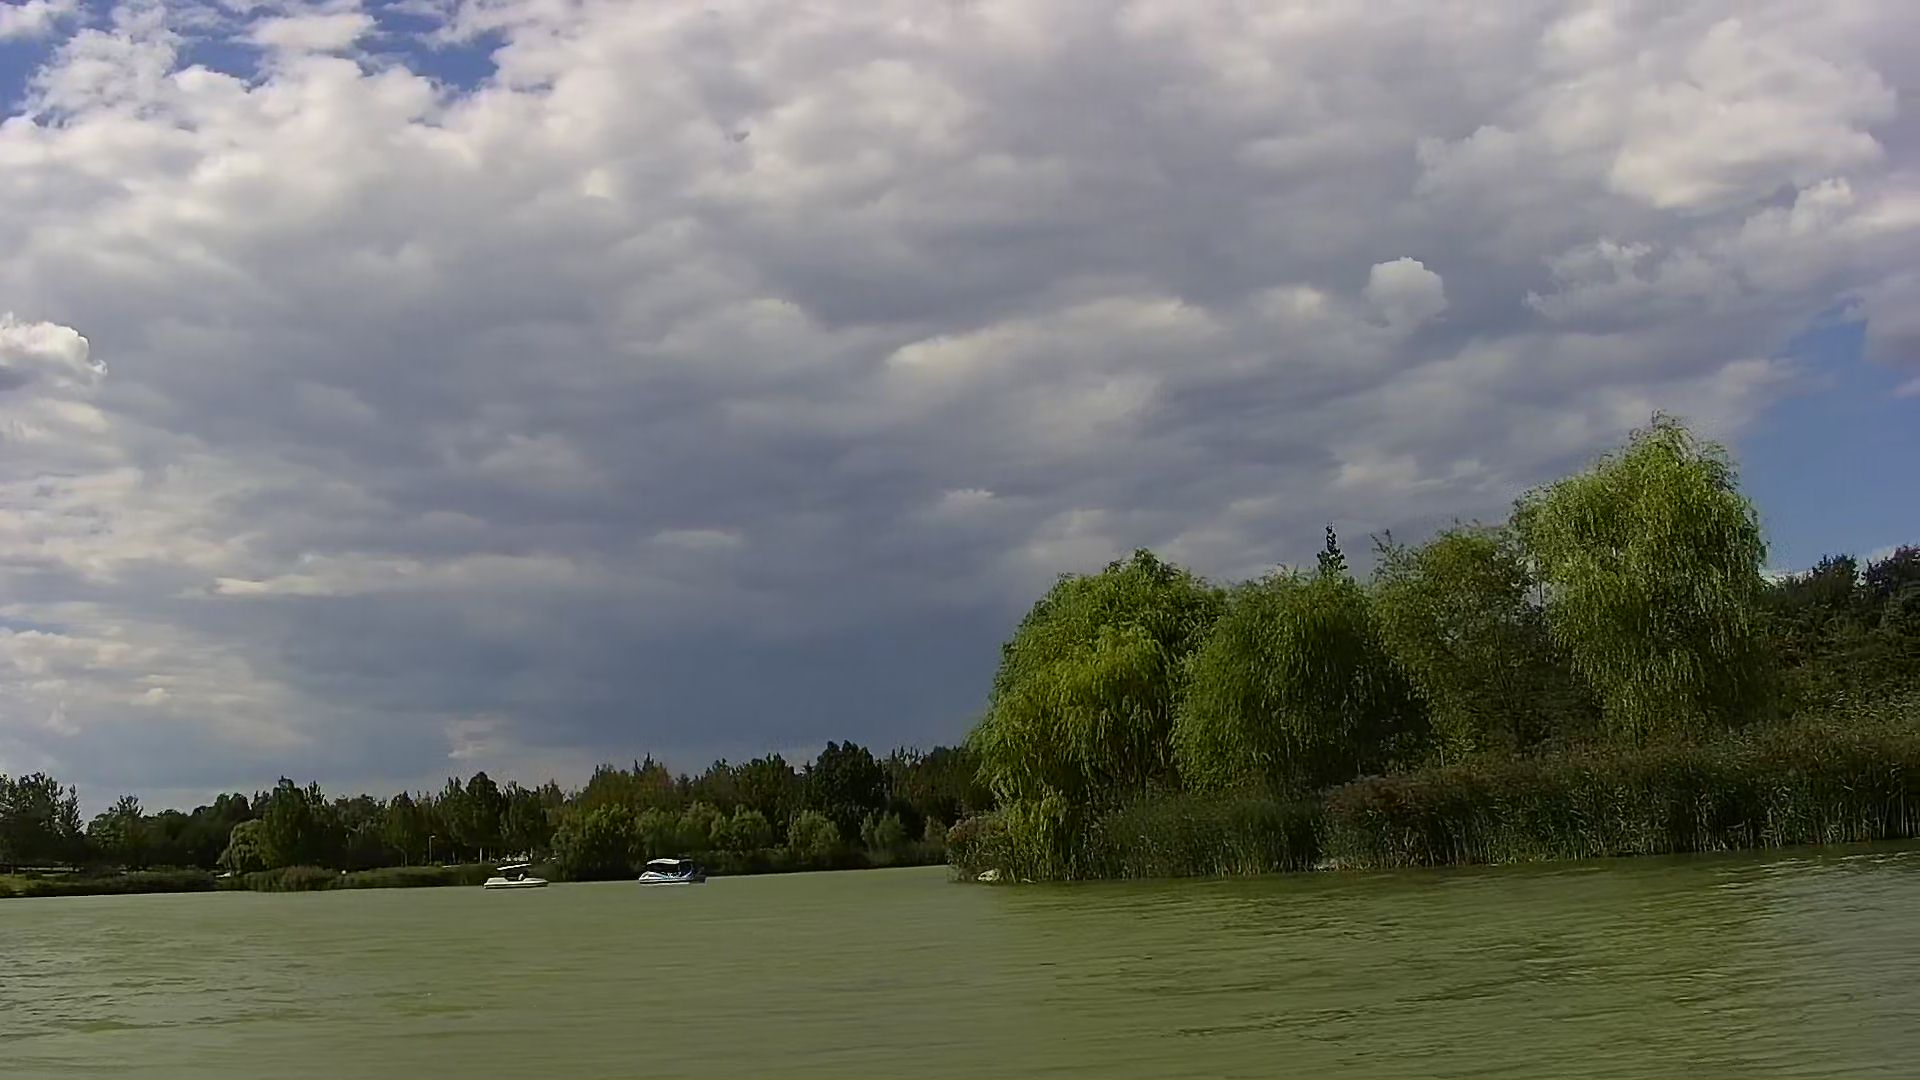boat: (637, 855, 705, 889), (483, 862, 545, 893)
rock: (975, 869, 1000, 885)
